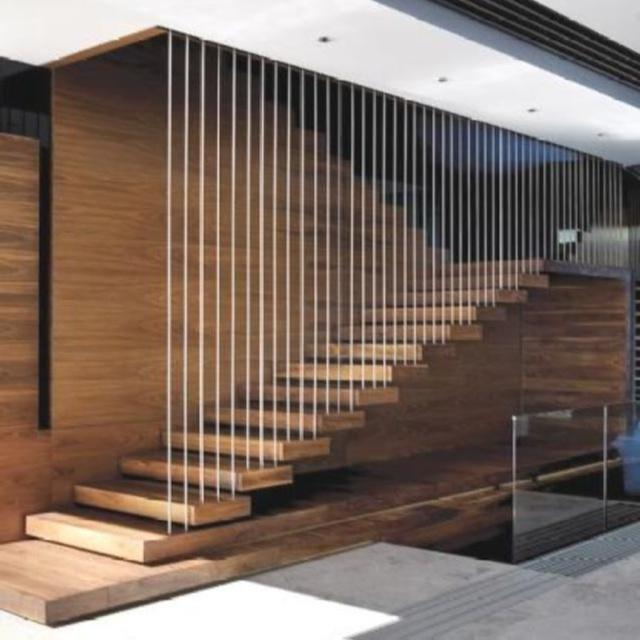stair: (0, 186, 600, 619)
